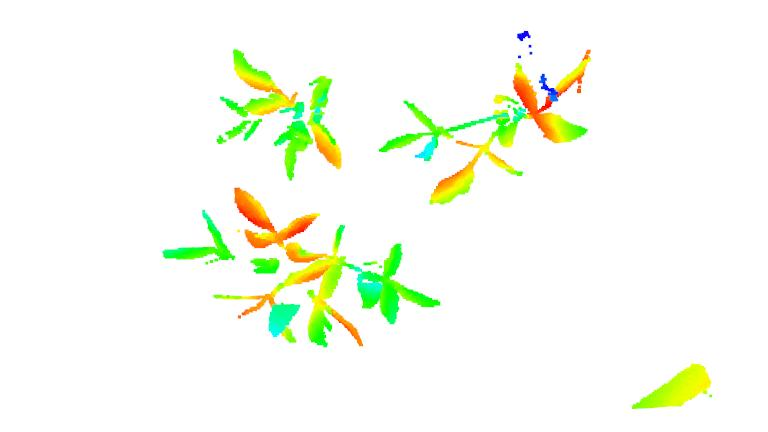mungbean: (152, 185, 446, 354), (381, 49, 592, 202), (214, 41, 358, 181)
